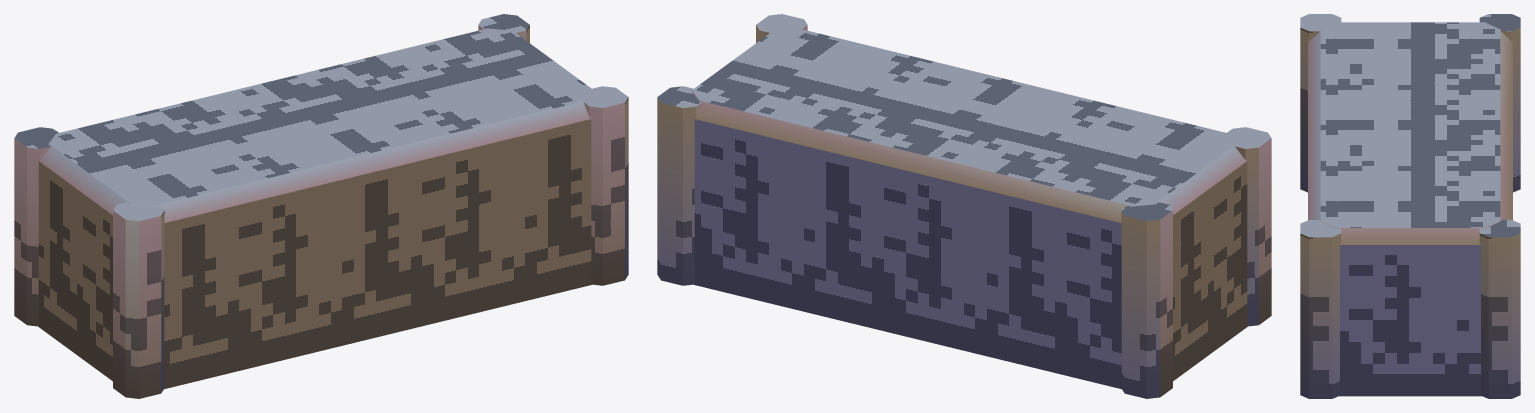
The model's file is tech.crate__long.glb.
3 renders of one model, left to right at view 1: azimuth 30°, elevation 25°; view 2: azimuth 150°, elevation 25°; view 3: azimuth 270°, elevation 25°, orthographic. The views are drawn at different scales.
Parts seen in each view (by area): view 1: kit_box, kit_corners; view 2: kit_box, kit_corners; view 3: kit_box, kit_corners.
Boxes of the visible parts, box(x1,y1,x2,y2) form: kit_box: box(38, 28, 594, 389); kit_corners: box(14, 14, 628, 398); kit_box: box(691, 28, 1247, 389); kit_corners: box(657, 14, 1271, 398); kit_box: box(1308, 22, 1512, 396); kit_corners: box(1300, 14, 1520, 398).
Bounding box in the file's own units: 2.06 × 0.7 × 0.86.
2 materials, 2 textured.
